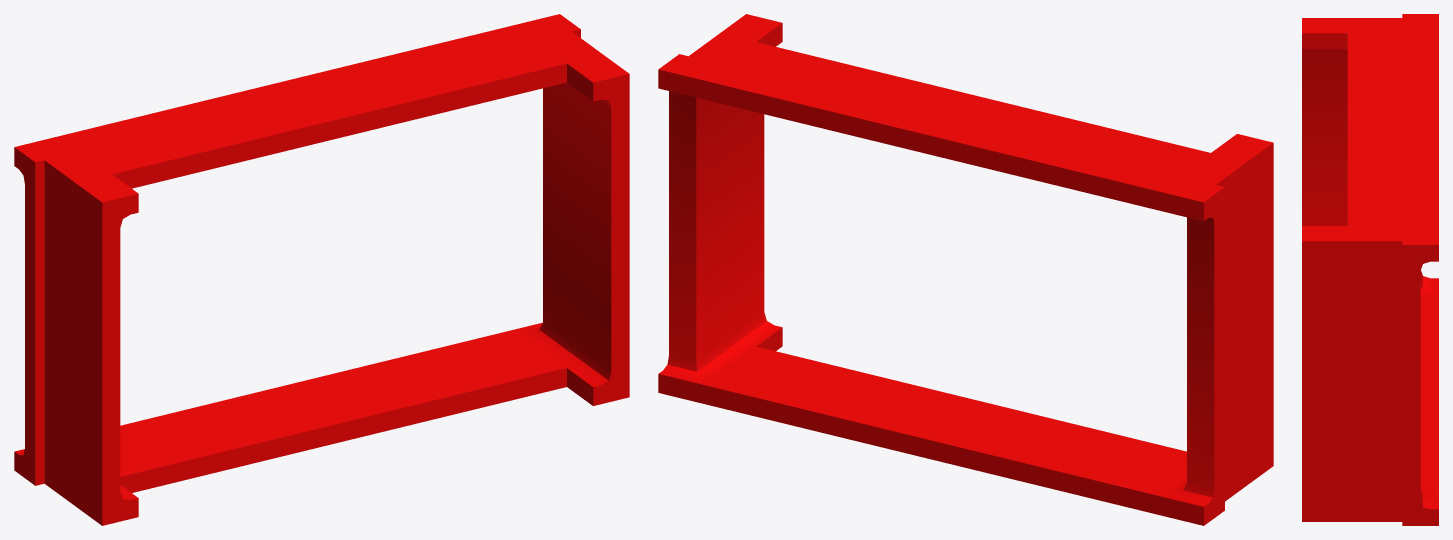
The model's file is SM_Transition-T_E.fbx.
3 views of the same model, side by side, from view 1: azimuth 30°, elevation 25°; view 2: azimuth 150°, elevation 25°; view 3: azimuth 270°, elevation 25° (orthographic). The views are drawn at different scales.
Parts seen in each view (by area): view 1: SM_Transition-T_E; view 2: SM_Transition-T_E; view 3: SM_Transition-T_E.
Boxes of the visible parts, x1,y1,x2,y2 form: SM_Transition-T_E: [14, 14, 629, 525]; SM_Transition-T_E: [658, 14, 1273, 525]; SM_Transition-T_E: [1302, 14, 1438, 525].
Size of the model in its own units: 600 by 150 by 340.
